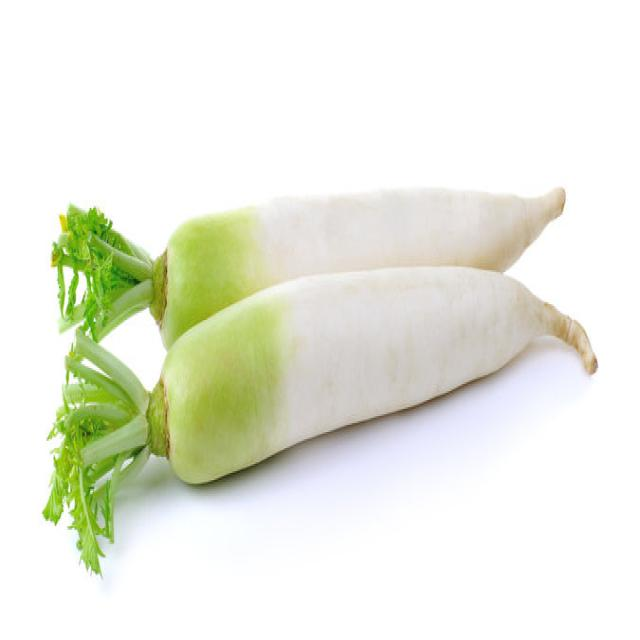Radish: (145, 262, 597, 486), (52, 182, 567, 350)
Spinach: (42, 182, 598, 574)
